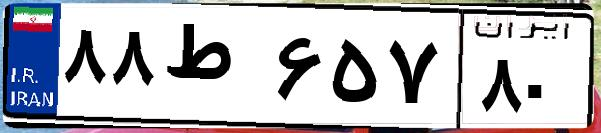0: (525, 38, 570, 115)
5: (330, 28, 385, 110)
6: (270, 28, 330, 110)
7: (385, 28, 445, 110)
8: (57, 26, 110, 100), (475, 38, 525, 113), (110, 28, 158, 98)
ط: (158, 20, 270, 120)
